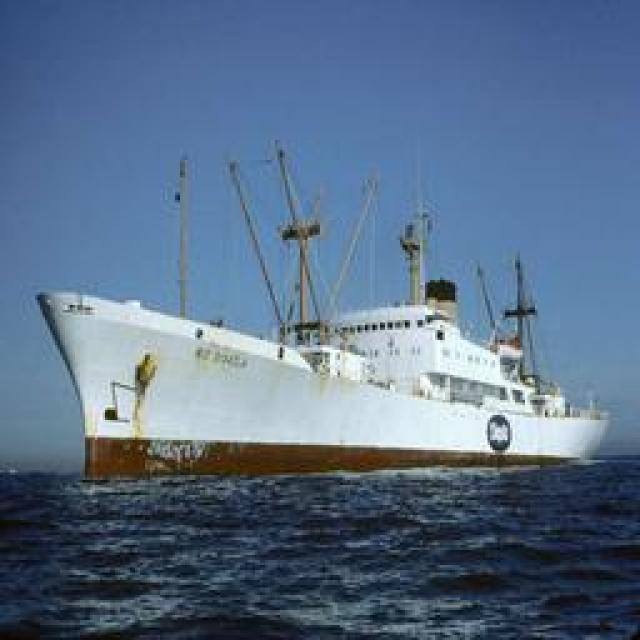ship2: (36, 137, 613, 484)
